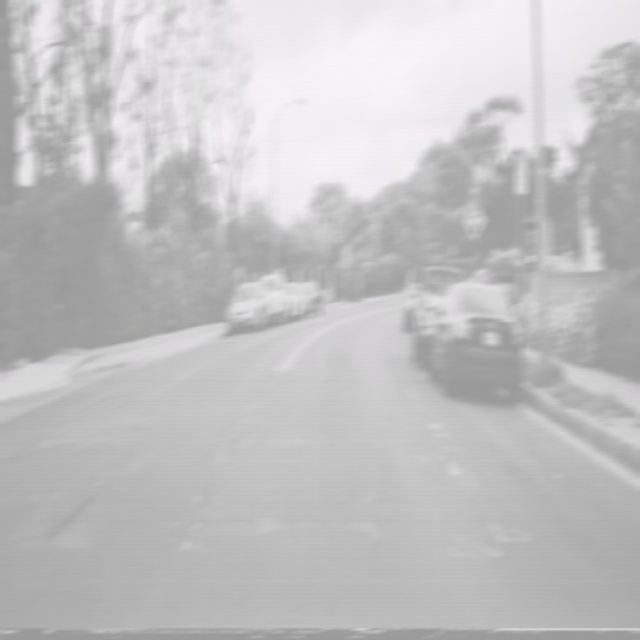signalAhead: (463, 198, 485, 242)
